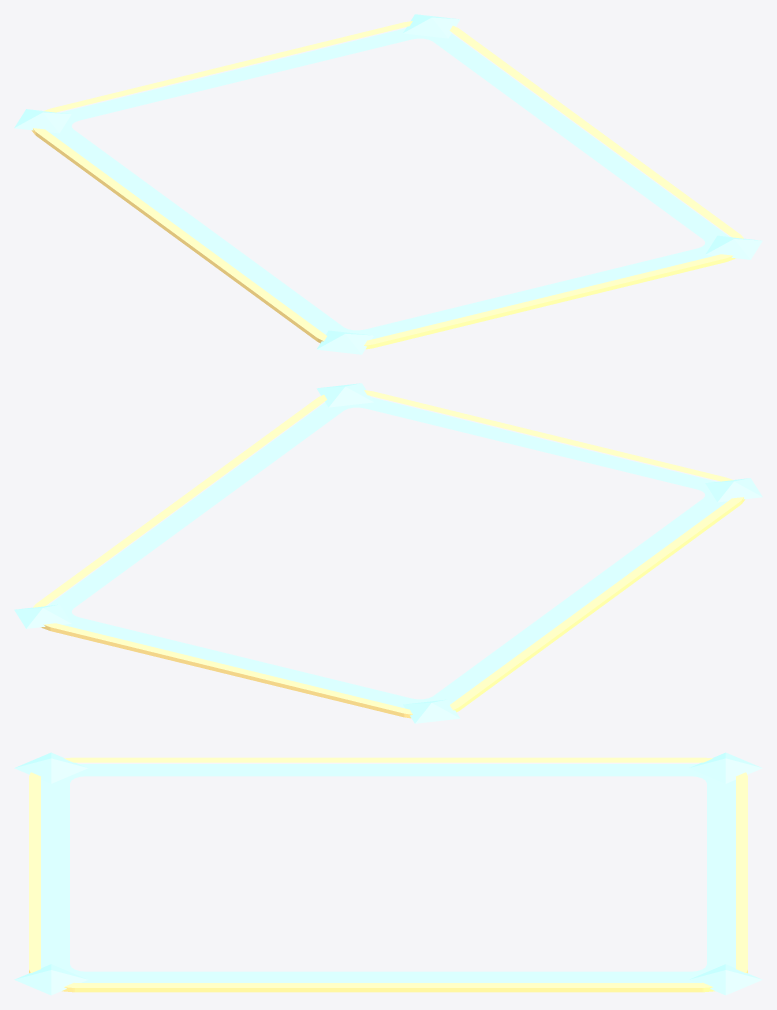
The model's file is mwx_plate_t.glb.
The picture shows the model from 3 angles, top to bottom: view 1: azimuth 30°, elevation 25°; view 2: azimuth 150°, elevation 25°; view 3: azimuth 270°, elevation 25°; orthographic projection. The views are drawn at different scales.
Visible parts, largest first — view 1: mwx_plate_t; view 2: mwx_plate_t; view 3: mwx_plate_t.
Boxes of the visible parts, x1,y1,x2,y2 form: mwx_plate_t: (14, 14, 762, 354); mwx_plate_t: (14, 383, 762, 723); mwx_plate_t: (14, 752, 762, 995).
Bounding box in the file's own units: 8.5 × 0.21 × 11.07.
